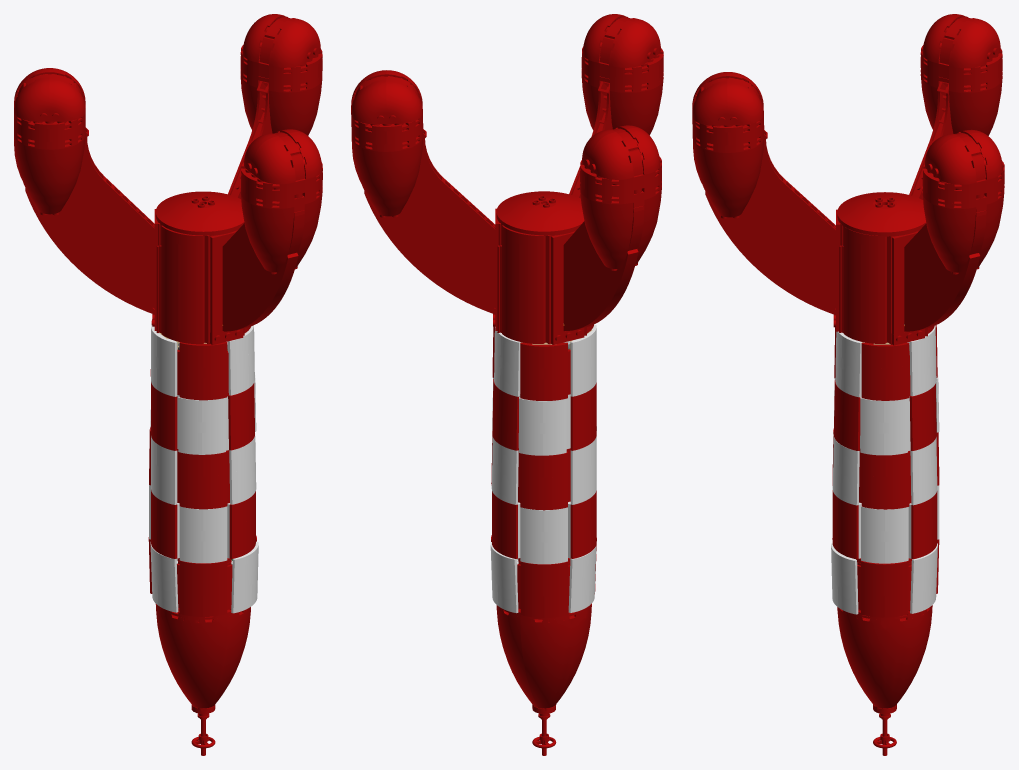
Rendered from tintin-rocket.glb.
3 renders of one model, left to right at view 1: azimuth 30°, elevation 25°; view 2: azimuth 150°, elevation 25°; view 3: azimuth 270°, elevation 25°, orthographic.
Parts seen in each view (by area): view 1: 15068.dat (×20), 18909.dat (×5), 88293.dat (×6), bl_8097.dat (×2), 7547.dat (×6), 6112.dat (×4), 93273.dat (×6), 18859.dat, 60479.dat (×4), parts/s/7217s01.dat (×2), 5152.dat (×2), 4162.dat (+4 smaller); view 2: 15068.dat (×20), 18909.dat (×5), 88293.dat (×6), bl_8097.dat (×2), 7547.dat (×6), 6112.dat (×4), 93273.dat (×6), 18859.dat, 60479.dat (×4), parts/s/7217s01.dat (×2), 5152.dat (×2), 4162.dat (+5 smaller); view 3: 15068.dat (×20), 18909.dat (×5), 88293.dat (×6), bl_8097.dat, 7547.dat (×6), 6112.dat (×4), 18859.dat, 93273.dat (×5), 60479.dat (×3), parts/s/7217s01.dat (×2), 5152.dat (×2), 4162.dat (+3 smaller).
Boxes of the visible parts, <box> form: 15068.dat (×20): <box>178,244,227,616</box>; 18909.dat (×5): <box>14,74,322,274</box>; 88293.dat (×6): <box>14,16,322,184</box>; bl_8097.dat (×2): <box>155,604,250,710</box>; 7547.dat (×6): <box>150,468,258,584</box>; 6112.dat (×4): <box>59,176,267,310</box>; 93273.dat (×6): <box>161,225,227,595</box>; 18859.dat: <box>155,191,244,236</box>; 60479.dat (×4): <box>55,172,154,298</box>; parts/s/7217s01.dat (×2): <box>25,188,154,314</box>; 5152.dat (×2): <box>245,65,317,201</box>; 4162.dat: <box>210,246,222,334</box>; 15068.dat (×20): <box>519,244,568,617</box>; 18909.dat (×5): <box>351,73,663,270</box>; 88293.dat (×6): <box>351,16,660,179</box>; bl_8097.dat (×2): <box>496,603,591,710</box>; 7547.dat (×6): <box>490,468,596,585</box>; 6112.dat (×4): <box>399,177,608,309</box>; 93273.dat (×6): <box>502,225,568,596</box>; 18859.dat: <box>496,191,584,235</box>; 60479.dat (×4): <box>394,174,495,298</box>; parts/s/7217s01.dat (×2): <box>364,191,495,314</box>; 5152.dat (×2): <box>585,65,658,196</box>; 4162.dat: <box>551,246,563,335</box>; 15068.dat (×20): <box>860,244,909,617</box>; 18909.dat (×5): <box>692,74,1004,274</box>; 88293.dat (×6): <box>692,16,1002,184</box>; bl_8097.dat: <box>837,605,932,709</box>; 7547.dat (×6): <box>831,468,937,585</box>; 6112.dat (×4): <box>740,179,949,310</box>; 18859.dat: <box>837,192,926,236</box>; 93273.dat (×5): <box>860,365,909,596</box>; 60479.dat (×3): <box>735,192,835,299</box>; parts/s/7217s01.dat (×2): <box>705,191,835,314</box>; 5152.dat (×2): <box>927,65,997,201</box>; 4162.dat: <box>892,247,904,334</box>.
Bounding box in the file's own units: 584 × 1258 × 524.
